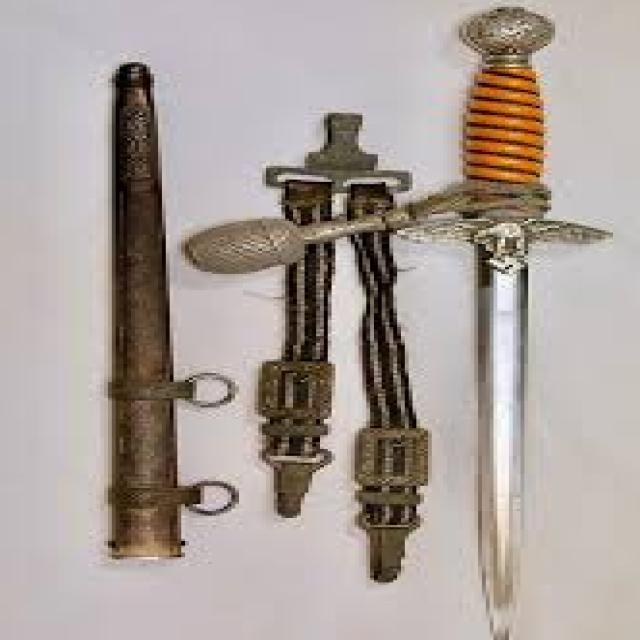Gun: (362, 0, 632, 640)
